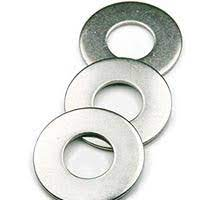No thread: (91, 77, 149, 128), (61, 132, 111, 184), (104, 19, 161, 64)
